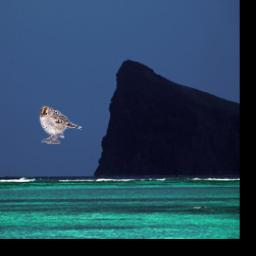Sparrow: (39, 106, 83, 145)
